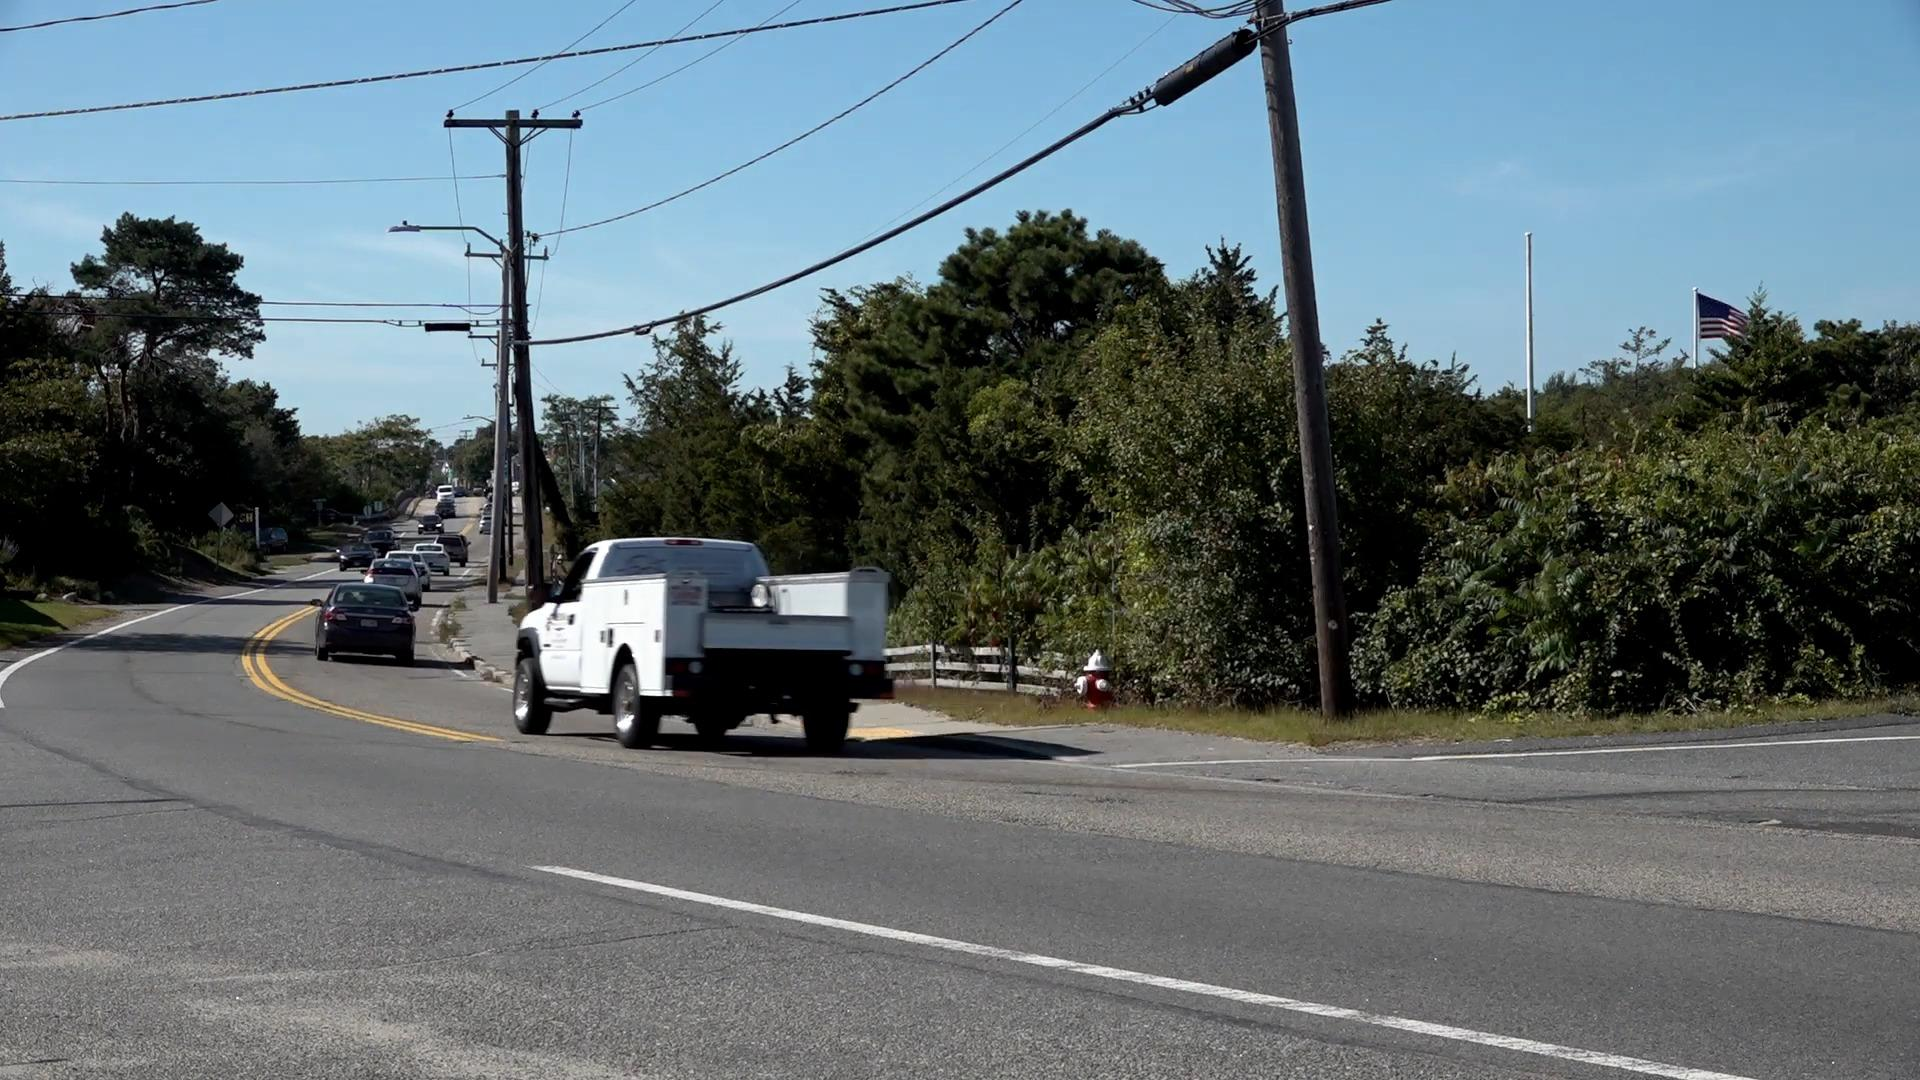pickup: (514, 525, 902, 762)
sedans: (312, 579, 421, 668)
